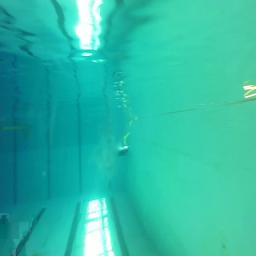front: (116, 145, 130, 156)
